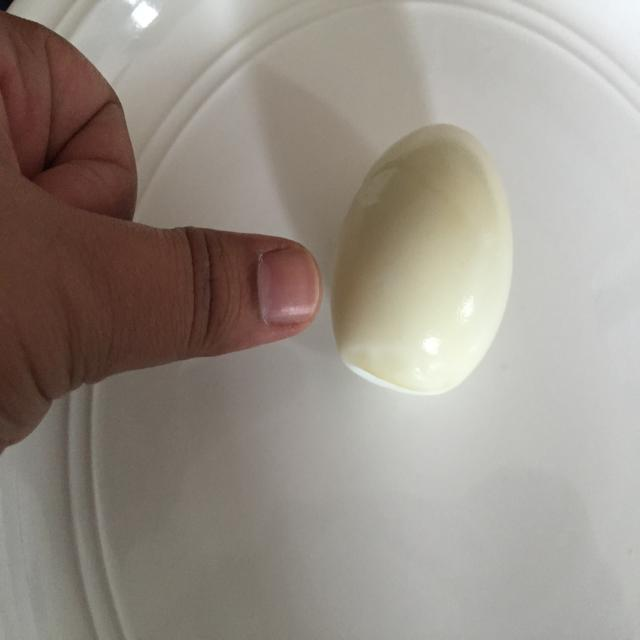Egg: (328, 116, 518, 407)
Finger: (159, 222, 327, 369)
